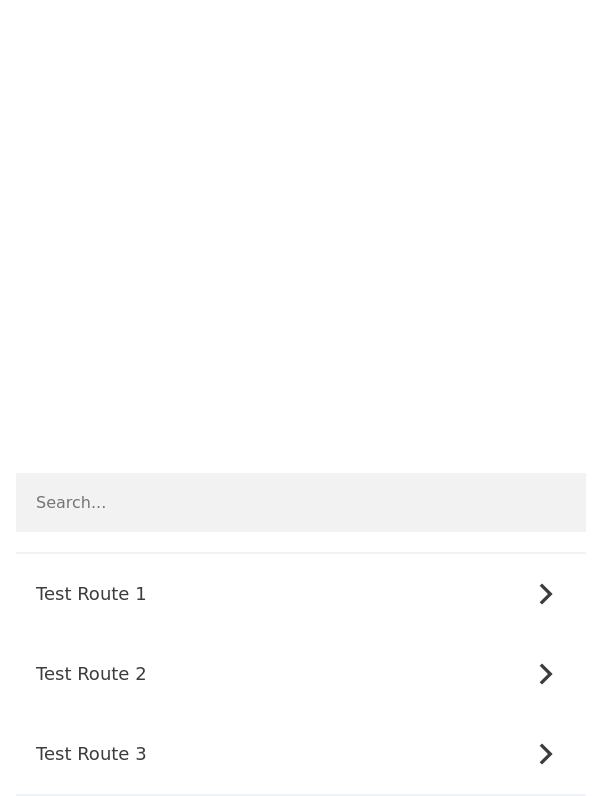
Test: filters the routes on search
(page scrolled)
In the search field: (301, 502) [16, 473, 586, 532], type "2"
(page scrolled)
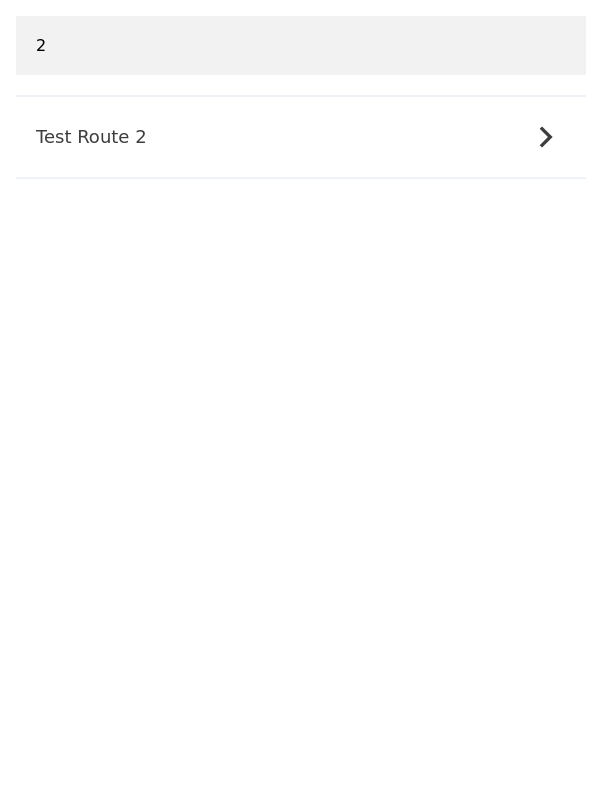
Now the number of list items is 1, box [16, 95, 586, 179]
